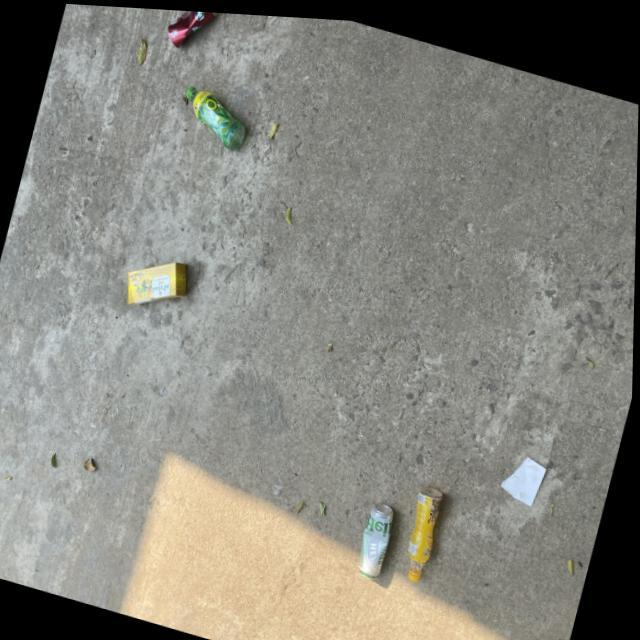clothes: (343, 465, 411, 610), (156, 8, 229, 78)
food: (489, 429, 556, 523)
leaf: (392, 456, 466, 604), (168, 54, 255, 158)
plastic bag: (78, 437, 111, 489), (264, 104, 288, 154), (46, 444, 68, 488), (132, 29, 152, 68)
trash: (111, 210, 223, 330)
